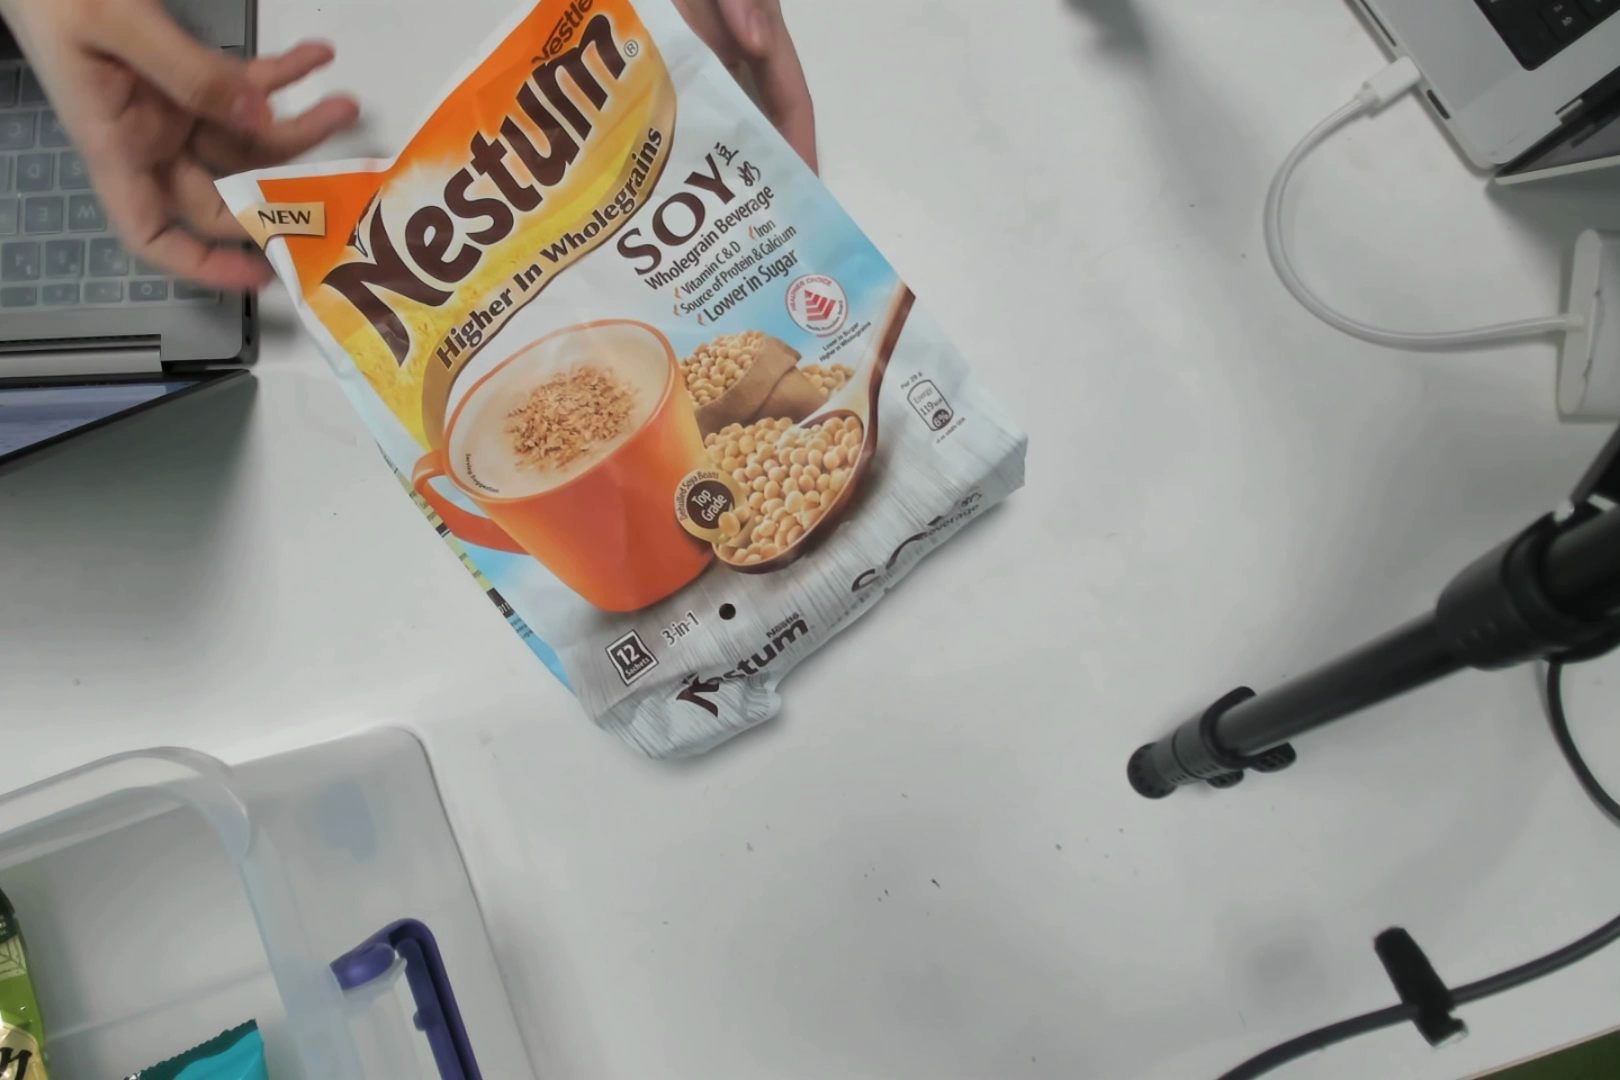e: (341, 8, 993, 714)
